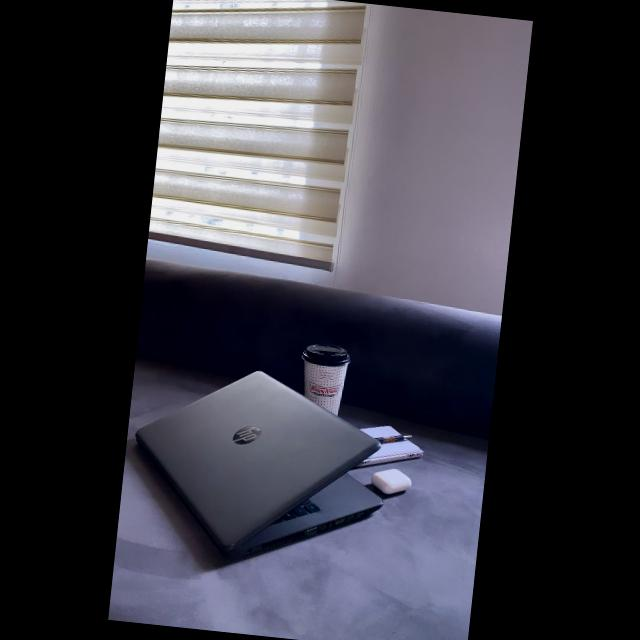laptop: (135, 371, 381, 559)
